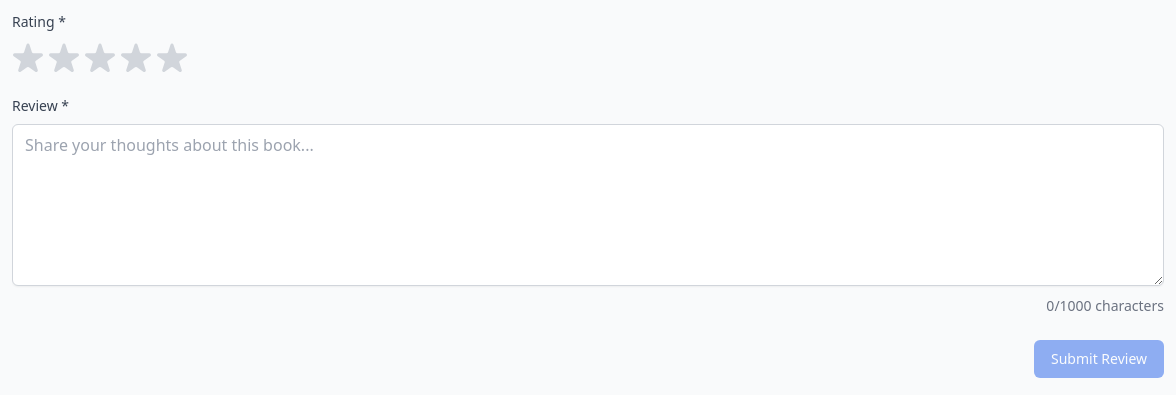
it: ReviewForm › shows validation error for short review content
Note: Set rating
Click the button named "Rate 3 out of 5 stars".
click(100, 56)  # box 84,40 -> 116,72
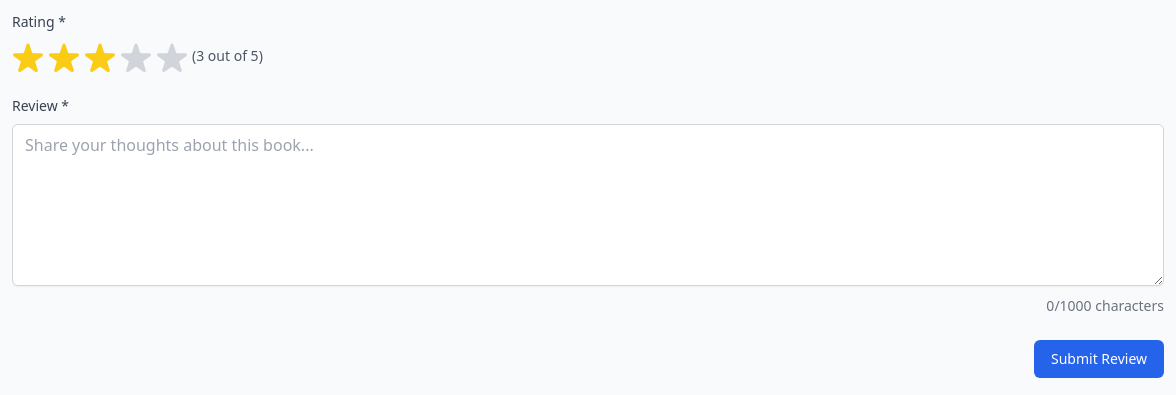
Type "Short" into the text box with placeholder "Share your thoughts about this book...".
click(588, 205); type("Short")  # box 12,124 -> 1164,286
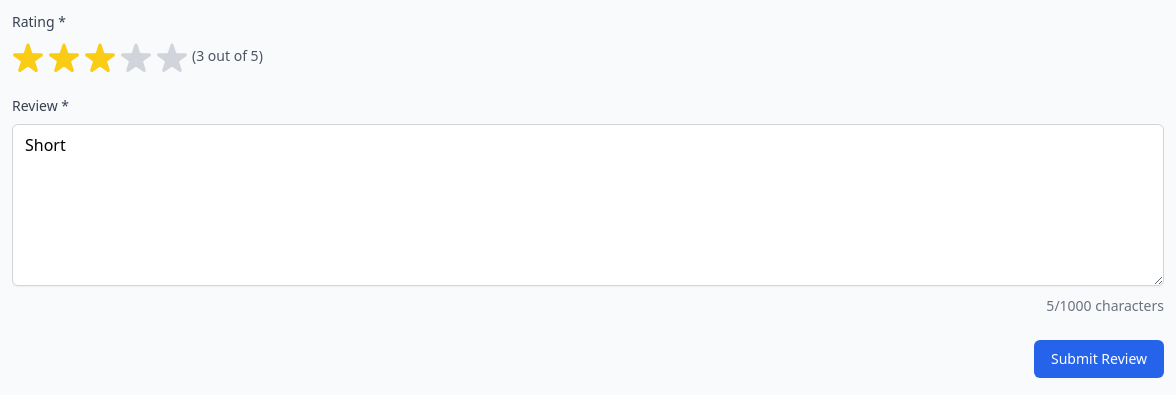
Click the button "Submit Review".
click(1099, 359)  # box 1034,340 -> 1164,378
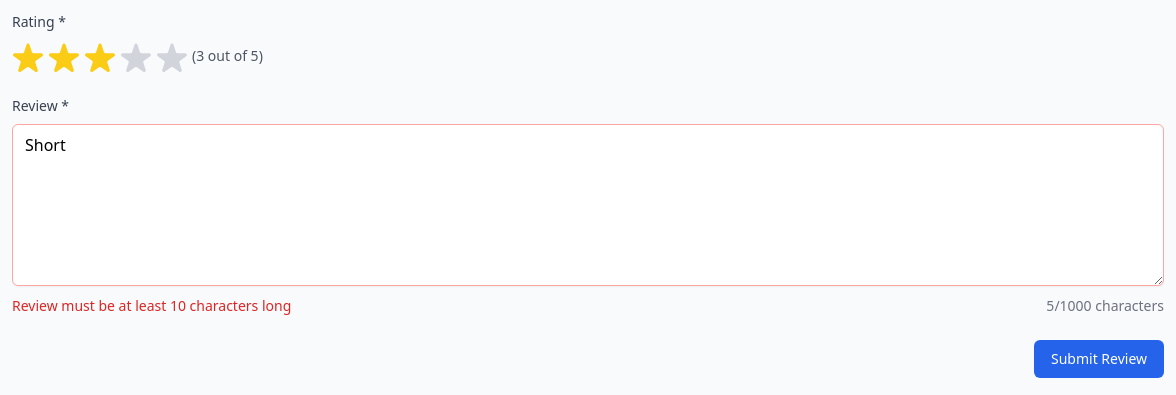
Check: the text "Review must be at least 10 characters long" is shown, box 12,296 -> 291,316
